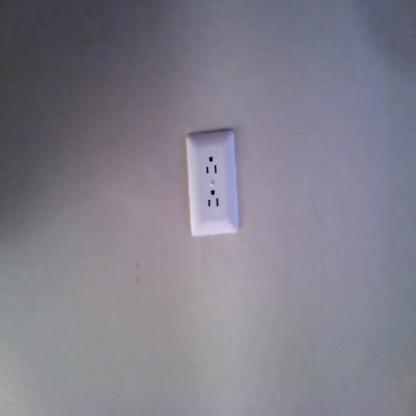OUTLET: (185, 130, 240, 236)
